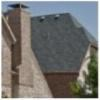chimneys: (6, 3, 33, 70)
